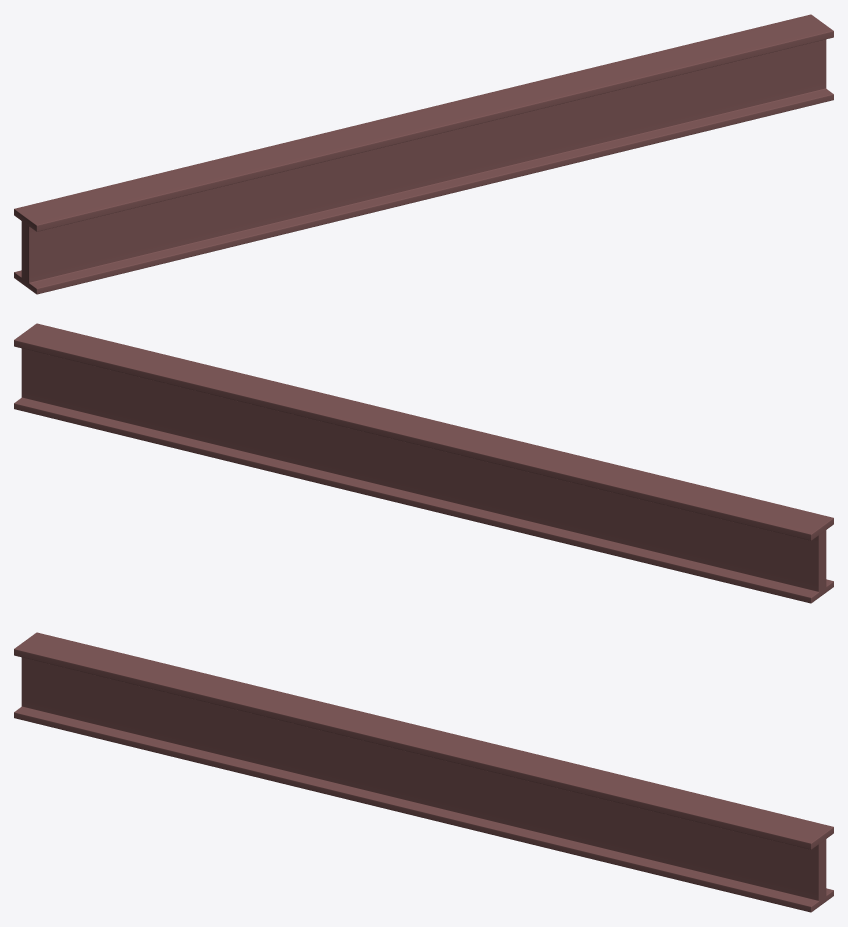
The model's file is Beam_L12.fbx.
The picture shows the model from 3 angles, top to bottom: view 1: azimuth 30°, elevation 25°; view 2: azimuth 150°, elevation 25°; view 3: azimuth 330°, elevation 25°; orthographic projection.
Visible parts, largest first — view 1: Beam_L12; view 2: Beam_L12; view 3: Beam_L12.
Part boxes in pixels (<box>): Beam_L12: <box>14,14,833,294</box>; Beam_L12: <box>14,323,833,603</box>; Beam_L12: <box>14,632,833,912</box>.
Bounding box in the file's own units: 12 × 1 × 0.6.
